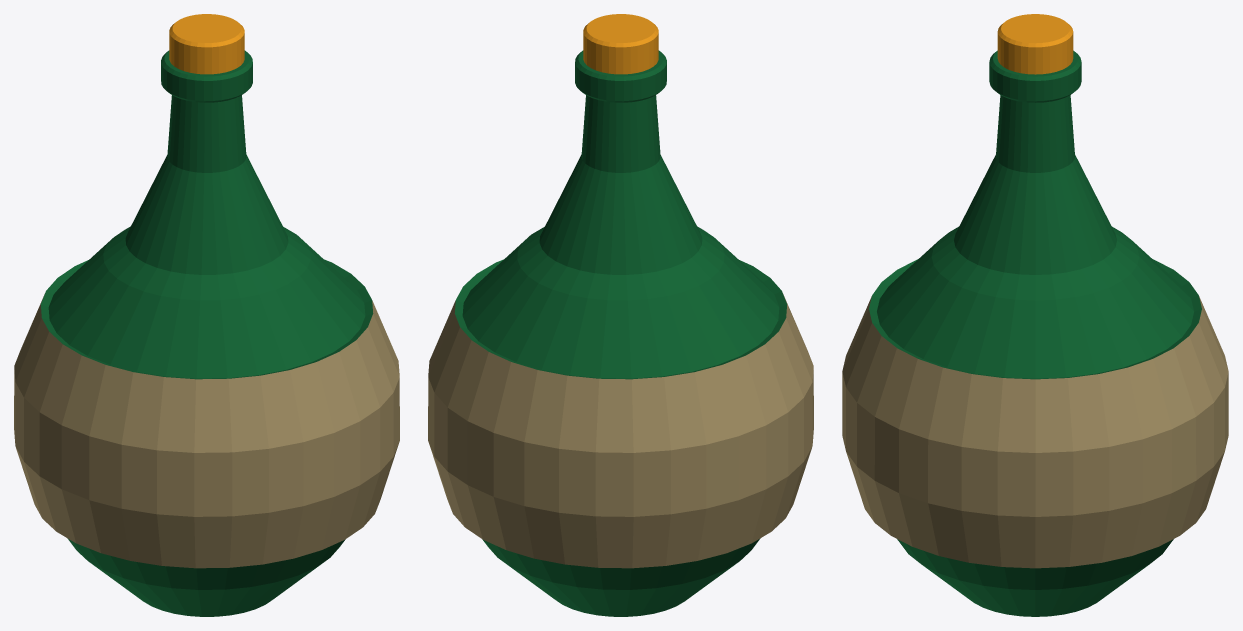
Rendered from RoundWinebottle.fbx.
The picture shows the model from 3 angles, left to right: view 1: azimuth 30°, elevation 25°; view 2: azimuth 150°, elevation 25°; view 3: azimuth 270°, elevation 25°; orthographic projection.
Visible parts, largest first — view 1: Cloth, Circle, Cork; view 2: Cloth, Circle, Cork; view 3: Cloth, Circle, Cork.
Boxes of the visible parts, x1,y1,x2,y2 form: Cloth: [14, 294, 399, 568]; Circle: [40, 50, 373, 616]; Cork: [169, 14, 244, 74]; Cloth: [428, 294, 813, 568]; Circle: [454, 50, 787, 616]; Cork: [583, 14, 658, 74]; Cloth: [842, 296, 1228, 568]; Circle: [869, 50, 1201, 616]; Cork: [997, 14, 1073, 74].
Bounding box in the file's own units: 370 × 588 × 370.
